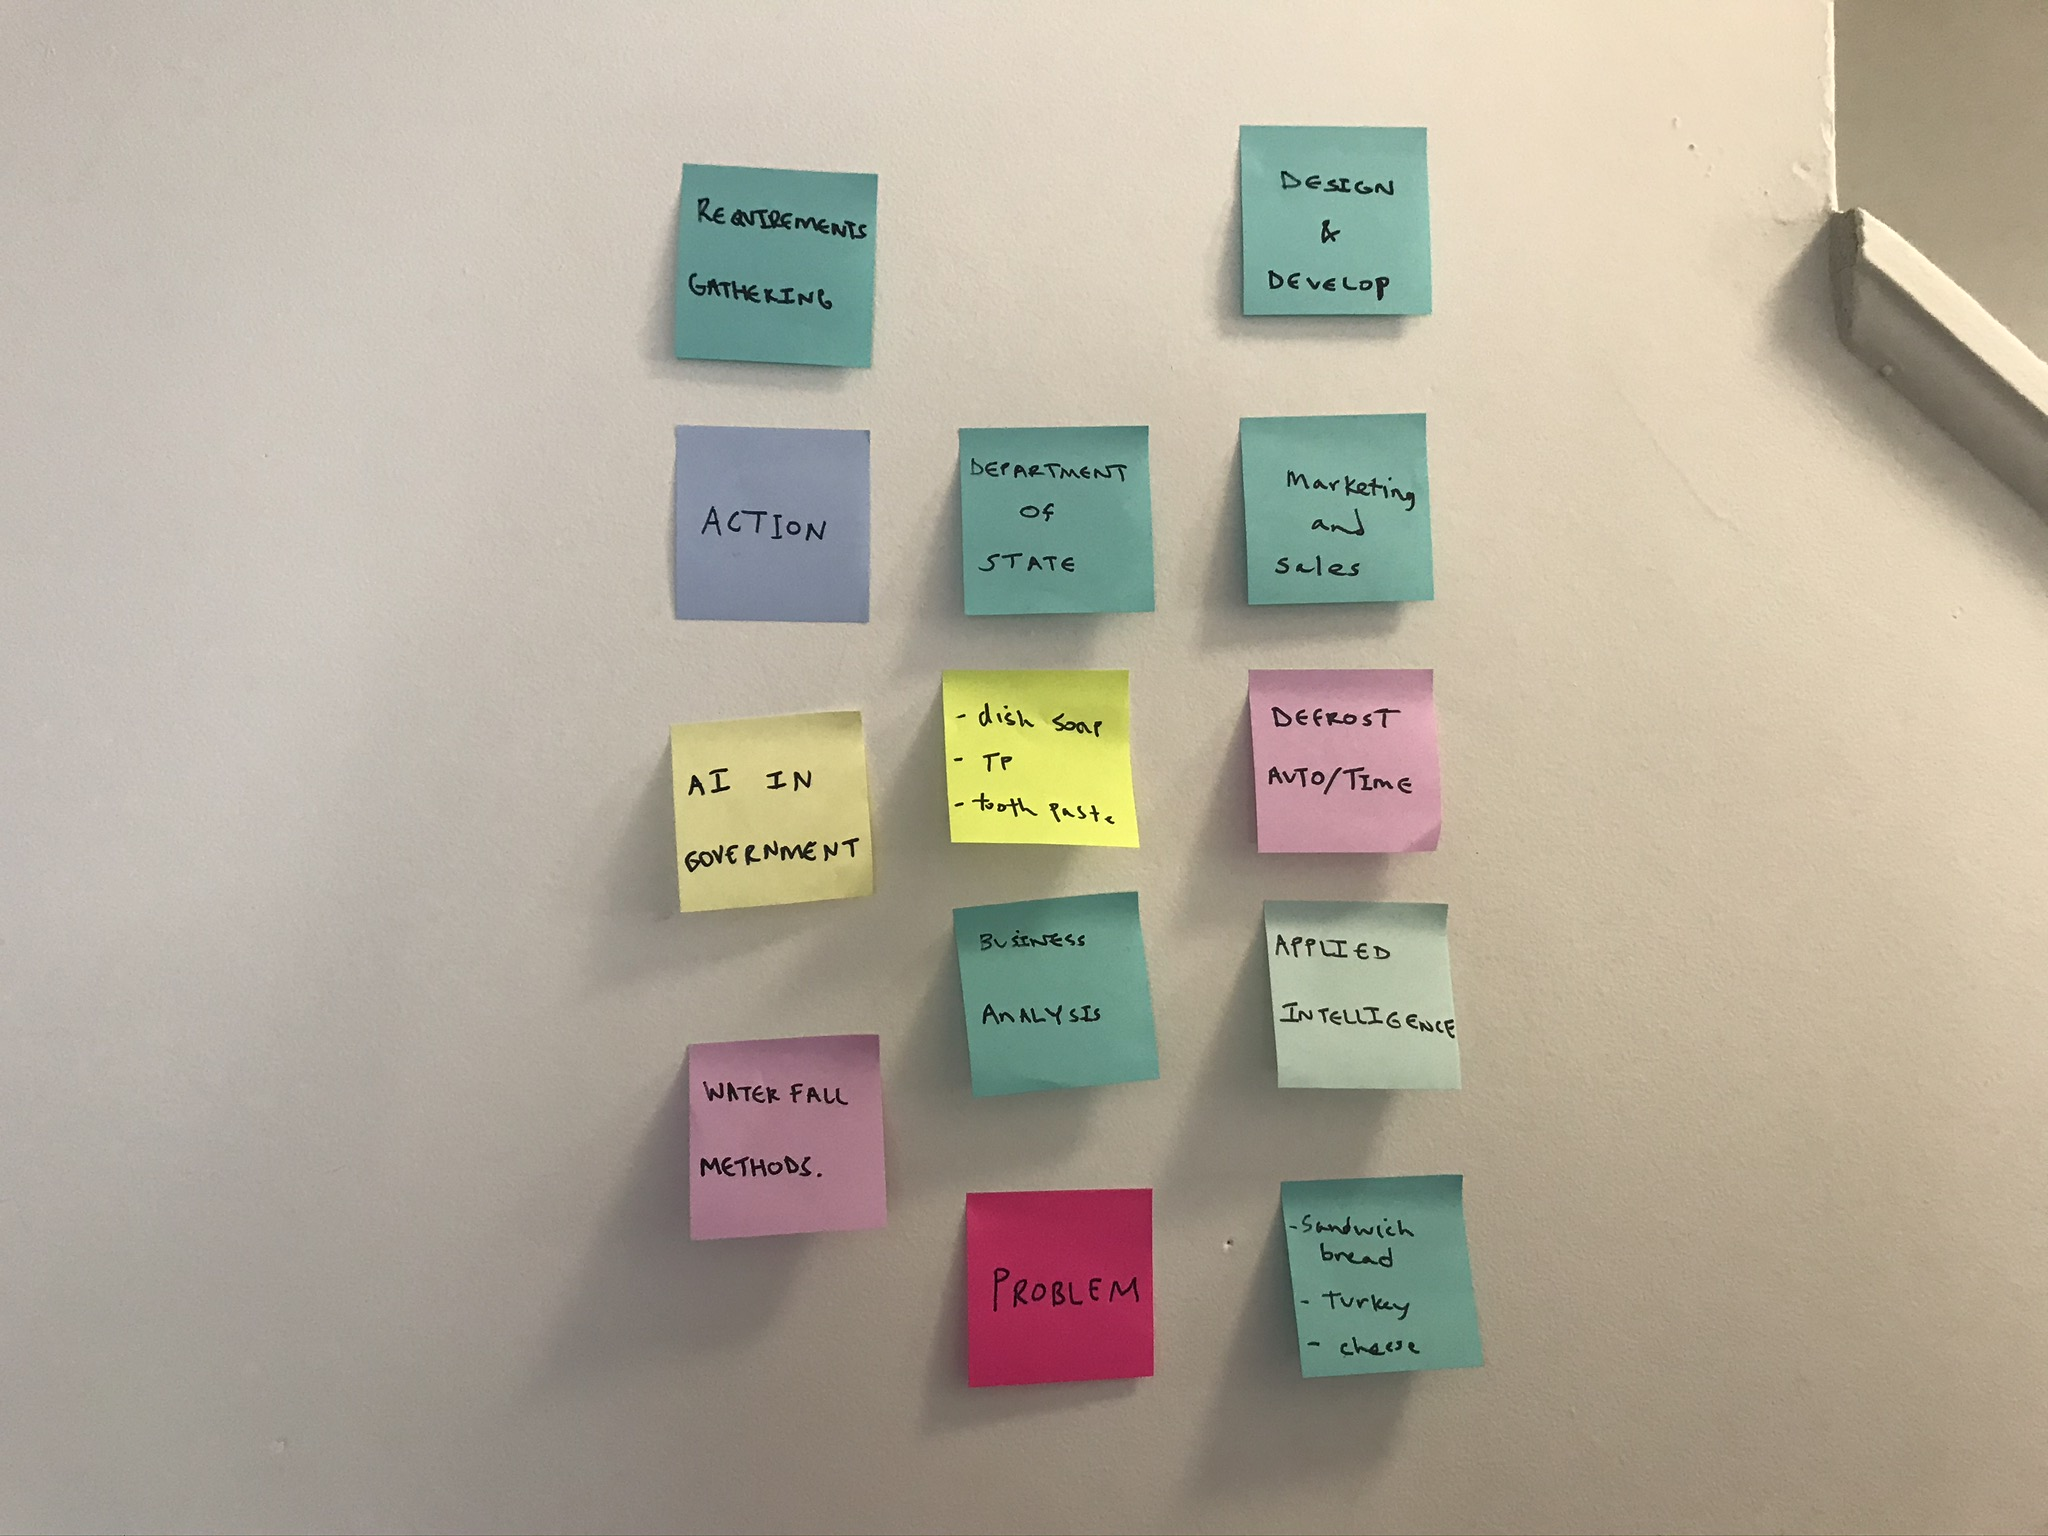sticky: (950, 889, 1163, 1097), (674, 161, 879, 373), (666, 710, 877, 915), (685, 1034, 889, 1242), (1282, 1175, 1485, 1376), (671, 423, 872, 624), (956, 424, 1159, 618), (1237, 413, 1437, 608), (1261, 900, 1464, 1091), (966, 1187, 1156, 1391), (940, 666, 1145, 854), (1240, 123, 1429, 319), (1247, 670, 1445, 857)
